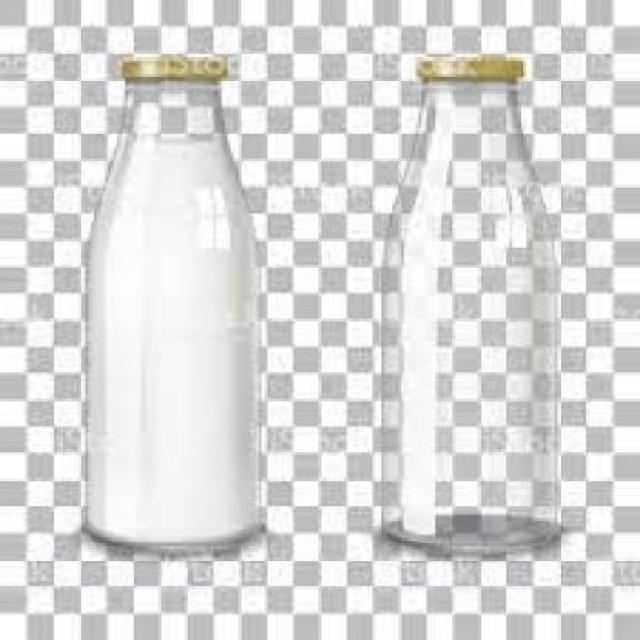kaca: (378, 77, 557, 557), (83, 77, 257, 552)
